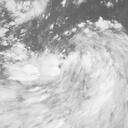cyclone: (7, 22, 112, 119)
